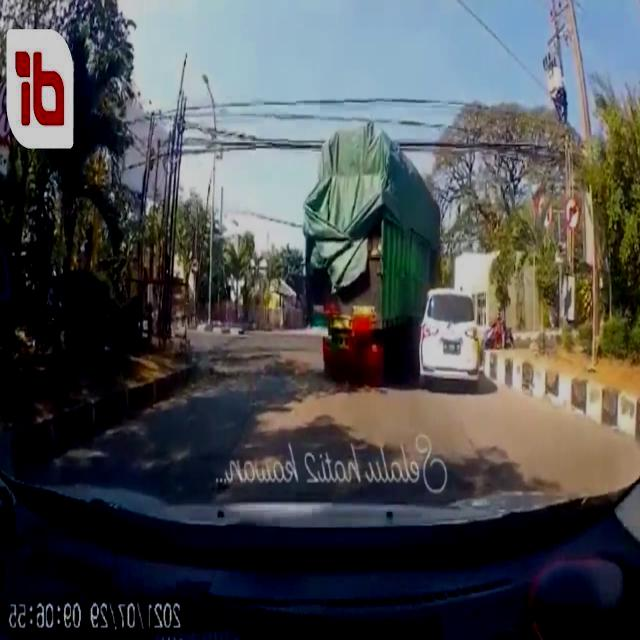accident: (300, 121, 482, 393)
